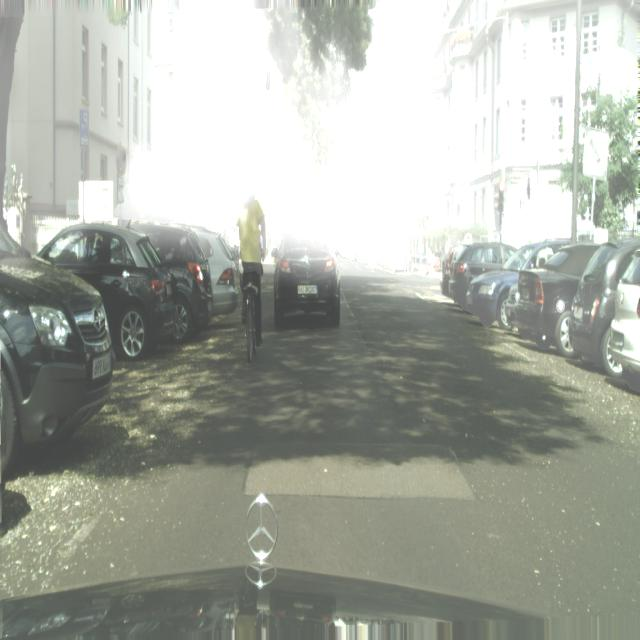person: (0, 214, 115, 491), (37, 221, 177, 361), (506, 241, 608, 354), (568, 236, 640, 373), (131, 221, 213, 341), (468, 241, 555, 328), (273, 224, 341, 329), (450, 241, 519, 308), (189, 226, 239, 318), (606, 257, 640, 377), (262, 244, 280, 276), (391, 242, 409, 272)
truck: (241, 180, 260, 363)
